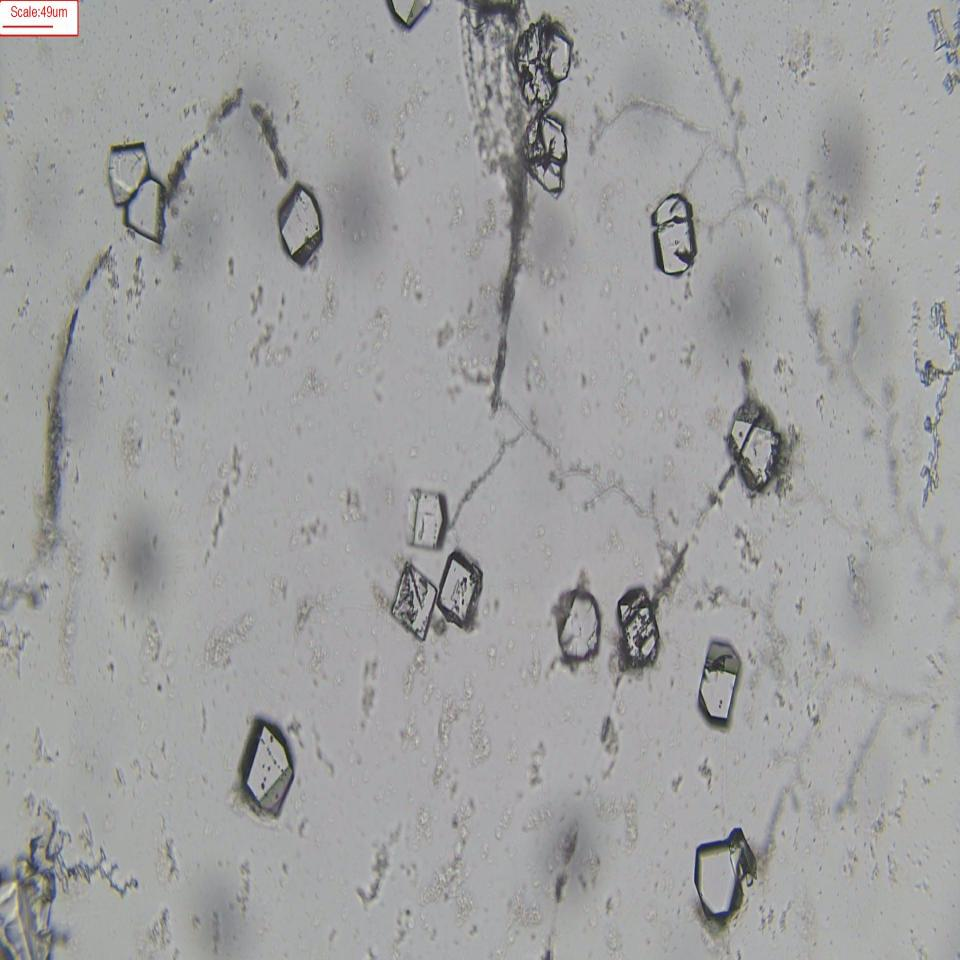crystal: (235, 720, 298, 816), (510, 18, 578, 106), (693, 835, 752, 920), (729, 396, 780, 493), (652, 183, 701, 282), (518, 114, 576, 193), (389, 556, 440, 645), (699, 640, 745, 732), (275, 188, 329, 264), (556, 588, 604, 666), (121, 179, 174, 249), (437, 551, 484, 625), (617, 592, 664, 664), (102, 140, 151, 200), (406, 489, 445, 549)
